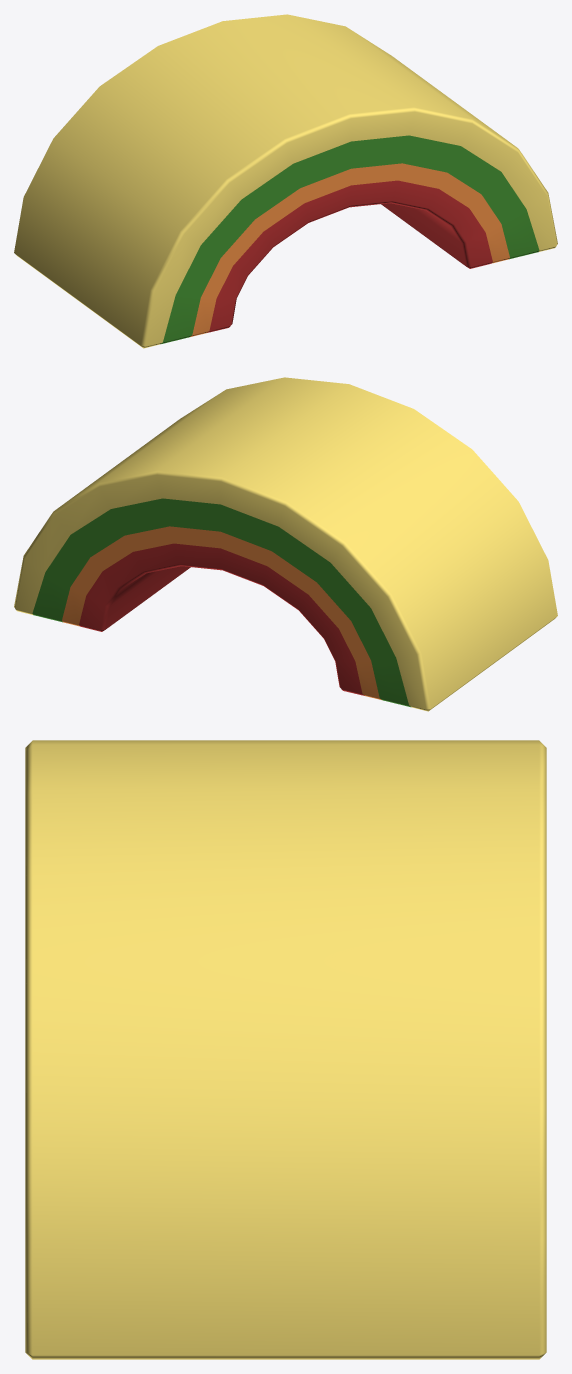
The model's file is Toy_Rainbow.glb.
The picture shows the model from 3 angles, top to bottom: view 1: azimuth 30°, elevation 25°; view 2: azimuth 150°, elevation 25°; view 3: azimuth 270°, elevation 25°; orthographic projection. The views are drawn at different scales.
Visible parts, largest first — view 1: Toy_Rainbow; view 2: Toy_Rainbow; view 3: Toy_Rainbow.
Part boxes in pixels (x1,y1,x2,y2): Toy_Rainbow: (14, 14, 557, 348); Toy_Rainbow: (14, 377, 557, 711); Toy_Rainbow: (25, 740, 546, 1359).
Bounding box in the file's own units: 0.5354 × 0.2262 × 0.2898.
Materials: 1 (1 with a texture image).
